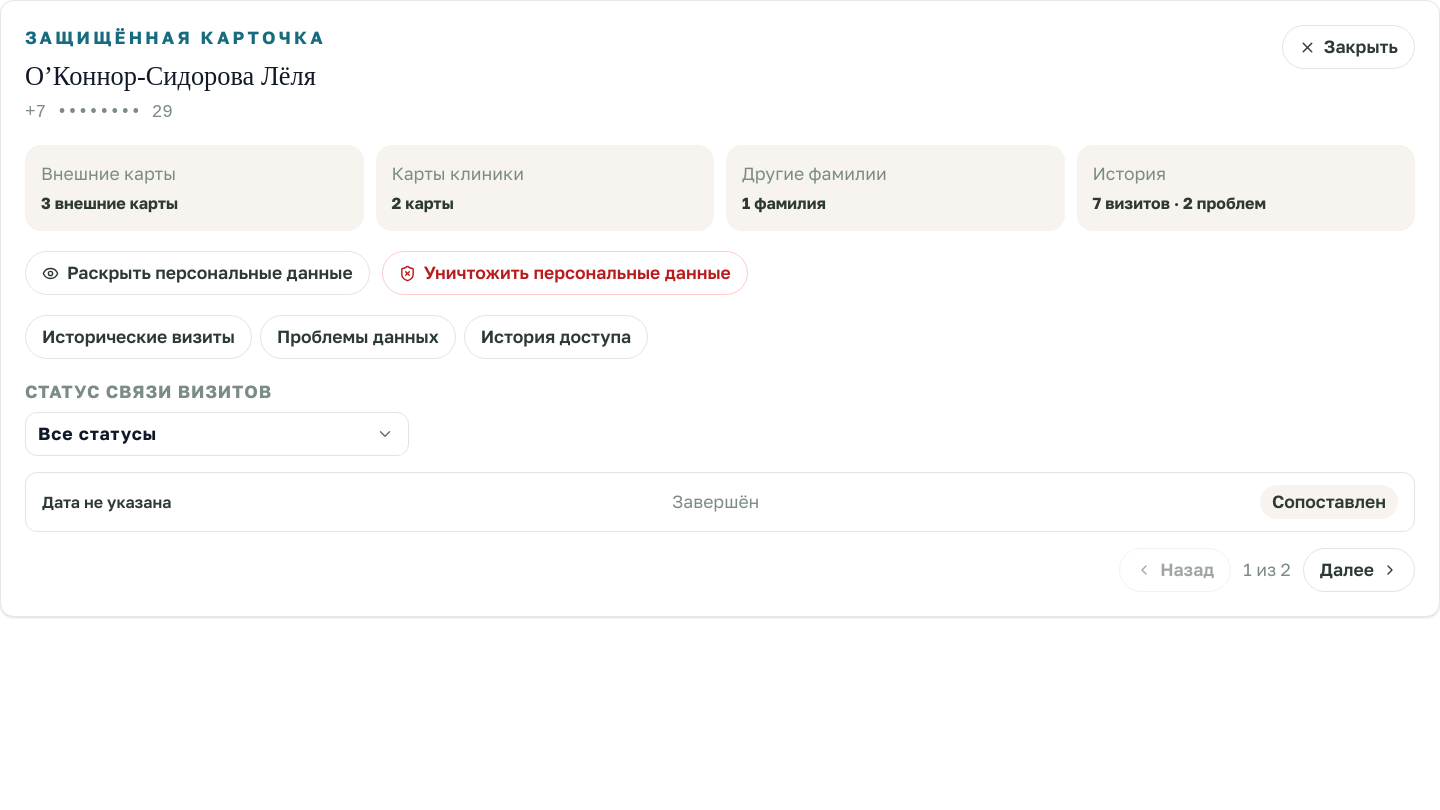
Test case: PatientDetails › clears previous history rows and reports a current visit-filter failure
This screenshot has width=1440, height=810.
Expected: the text "Завершён" is shown, [672,489,759,515]
Select "Не сопоставленные" in the dropdown labelled "Статус связи визитов" at {"x": 217, "y": 434}, box [25,412,409,456]
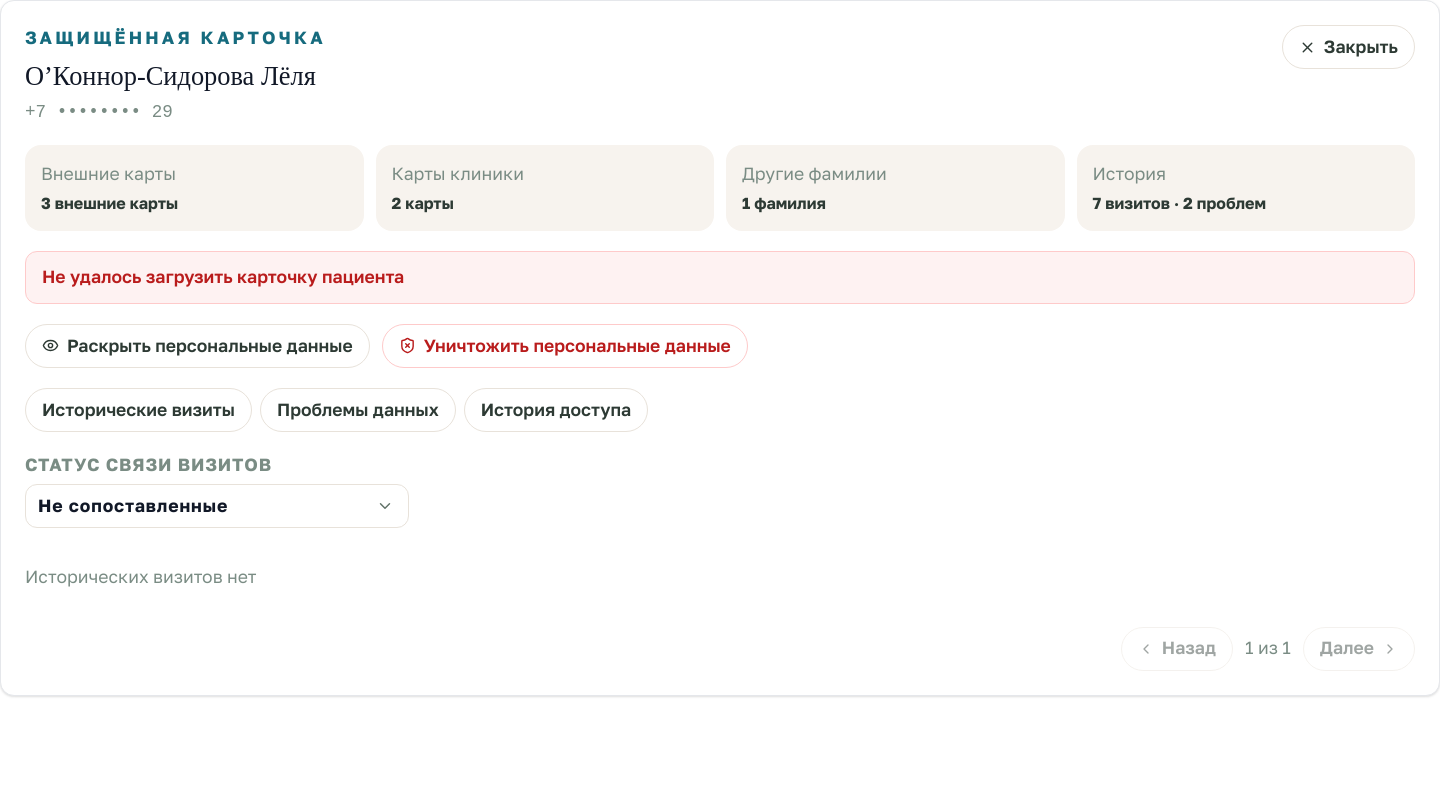
Now the message reads "Не удалось загрузить карточку пациента", box [42,266,404,287]
